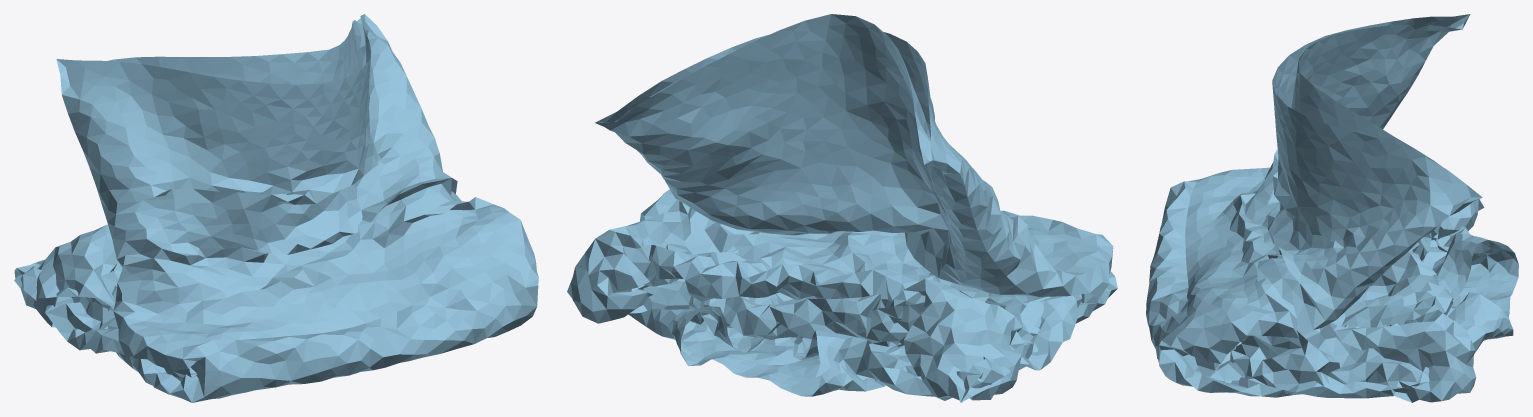
The model's file is frame_18.glb.
The picture shows the model from 3 angles, left to right: view 1: azimuth 30°, elevation 25°; view 2: azimuth 150°, elevation 25°; view 3: azimuth 270°, elevation 25°; orthographic projection. The views are drawn at different scales.
Parts seen in each view (by area): view 1: frame_18.obj; view 2: frame_18.obj; view 3: frame_18.obj.
Boxes of the visible parts, left/top/right/bottom form: frame_18.obj: left=14, top=14, right=538, bottom=402; frame_18.obj: left=567, top=14, right=1117, bottom=402; frame_18.obj: left=1146, top=14, right=1518, bottom=402.
Size of the model in its own units: 0.9543 by 0.5987 by 0.7706.
